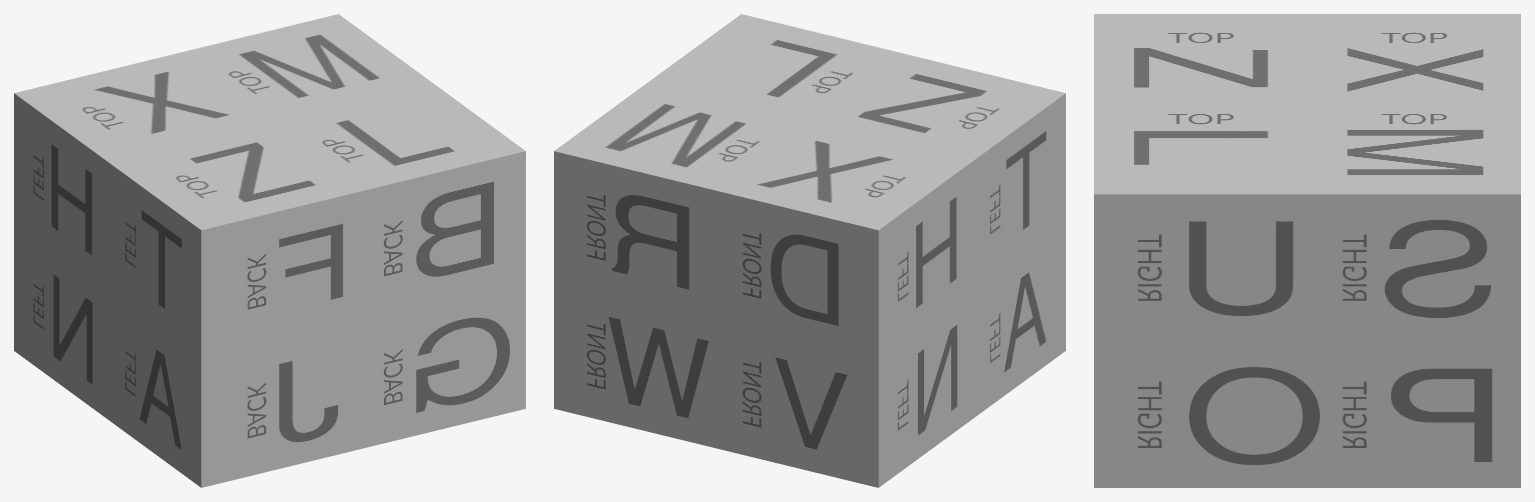
The model's file is standard-shader-ball.glb.
3 renders of one model, left to right at view 1: azimuth 30°, elevation 25°; view 2: azimuth 150°, elevation 25°; view 3: azimuth 270°, elevation 25°, orthographic. The views are drawn at different scales.
Parts seen in each view (by area): view 1: back, top, left; view 2: front, top, left; view 3: right, top.
Part boxes in pixels (bbox=[...]): back: bbox=[201, 151, 525, 487]; top: bbox=[14, 14, 525, 230]; left: bbox=[14, 93, 201, 487]; front: bbox=[554, 151, 878, 487]; top: bbox=[554, 14, 1065, 230]; left: bbox=[878, 93, 1065, 487]; right: bbox=[1094, 194, 1520, 487]; top: bbox=[1094, 14, 1520, 194].
Size of the model in its own units: 100 by 75.87 by 100.
Materials: 8 (8 with a texture image).
